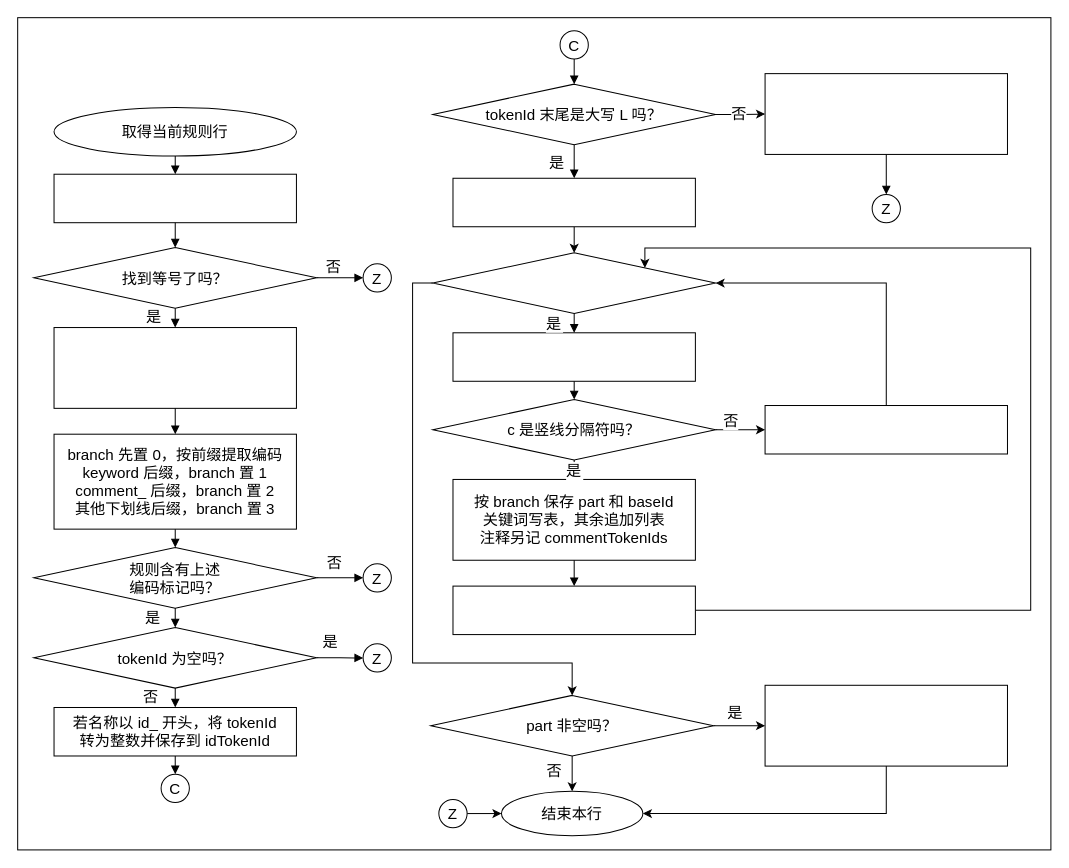
The diagram is 1069 pixels wide and 868 high, and some of its shapes have lost their labels. Here are the shapes that lost their labels. From the top down, the centre of each, then its label:
[885,113]: 将 tokenId 转为整数 id 关键字写表，其余追加列表 注释另外登记编码
[174,198]: 复制当前规则为 line 查找第一个等号的位置 eqIdx
[573,202]: 去掉末尾 L，转为 baseId 清空 part，准备读取 exp
[574,282]: exp 中还有未处理的字符吗？
[174,367]: 分开 name 与 exp 将名称与表达式写入 macro2exp 复制 name 并转为小写 lowerName
[573,356]: 读取下一个字符 c
[885,429]: 将 c 追加到 part
[573,610]: 清空 part baseId 加一
[885,725]: 用 baseId 保存最后的 part： 关键字写表，其余追加列表 注释另外登记编码
